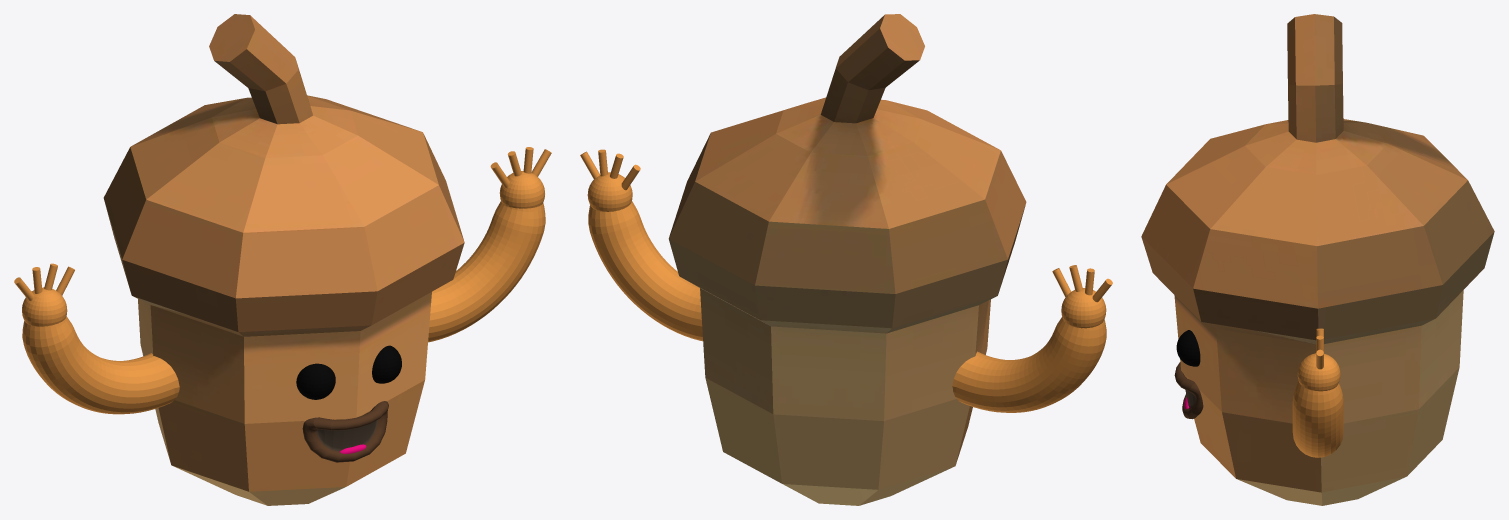
Rendered from ModelAcornMascot-transformed.glb.
The picture shows the model from 3 angles, left to right: view 1: azimuth 30°, elevation 25°; view 2: azimuth 150°, elevation 25°; view 3: azimuth 270°, elevation 25°; orthographic projection. The views are drawn at different scales.
Parts seen in each view (by area): view 1: acorn, Sphere, nose3 toonyMouths_1.001; view 2: acorn, Sphere; view 3: acorn, Sphere, nose3 toonyMouths_1.001.
Boxes of the visible parts, x1,y1,x2,y2 form: acorn: (103, 14, 464, 505); Sphere: (14, 147, 551, 453); nose3 toonyMouths_1.001: (302, 401, 388, 462); acorn: (668, 14, 1026, 505); Sphere: (580, 149, 1112, 412); acorn: (1141, 14, 1494, 505); Sphere: (1176, 328, 1343, 457); nose3 toonyMouths_1.001: (1174, 362, 1203, 419).
Size of the model in its own units: 2 by 1.71 by 1.21.
3 materials, 3 textured.
